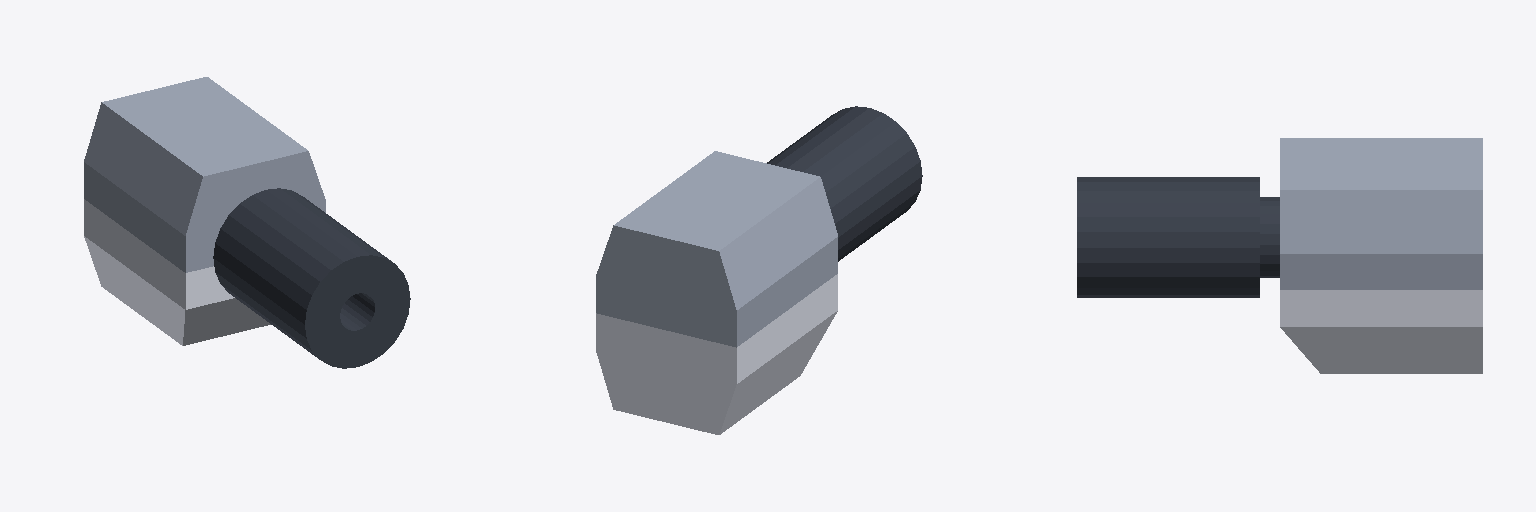
Rendered from weapon.obj.
3 renders of one model, left to right at view 1: azimuth 30°, elevation 25°; view 2: azimuth 150°, elevation 25°; view 3: azimuth 270°, elevation 25°, orthographic.
Parts seen in each view (by area): view 1: mergedBlocks; view 2: mergedBlocks; view 3: mergedBlocks.
Boxes of the visible parts, x1,y1,x2,y2 form: mergedBlocks: [84, 77, 410, 368]; mergedBlocks: [596, 106, 922, 434]; mergedBlocks: [1077, 138, 1482, 373].
Bounding box in the file's own units: 0.4 × 0.5 × 1.